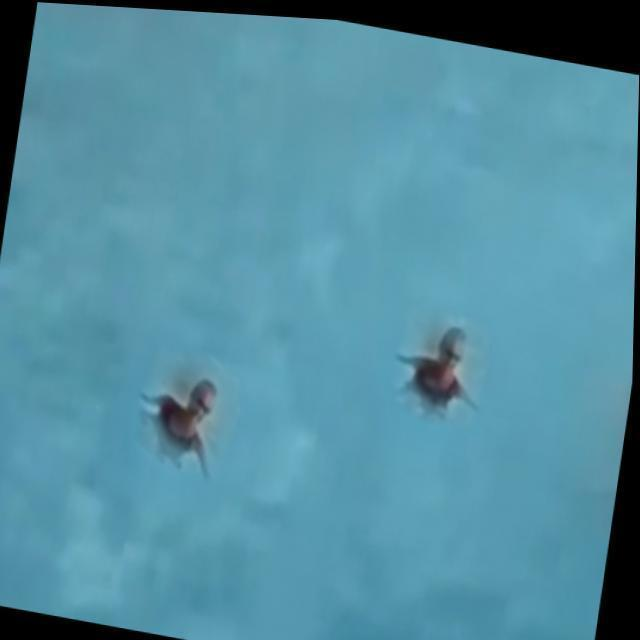swimming: (385, 308, 477, 427), (139, 353, 225, 465)
